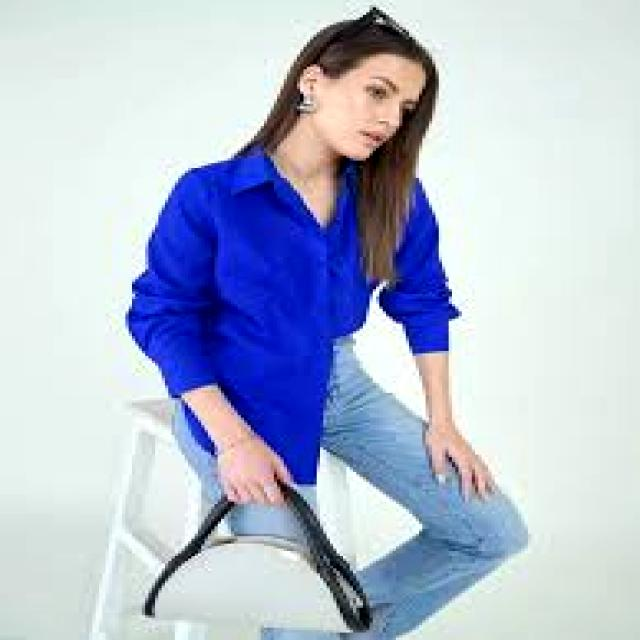face: (292, 18, 440, 160)
lower-wear: (174, 343, 530, 639)
top-wear: (127, 158, 462, 484)
